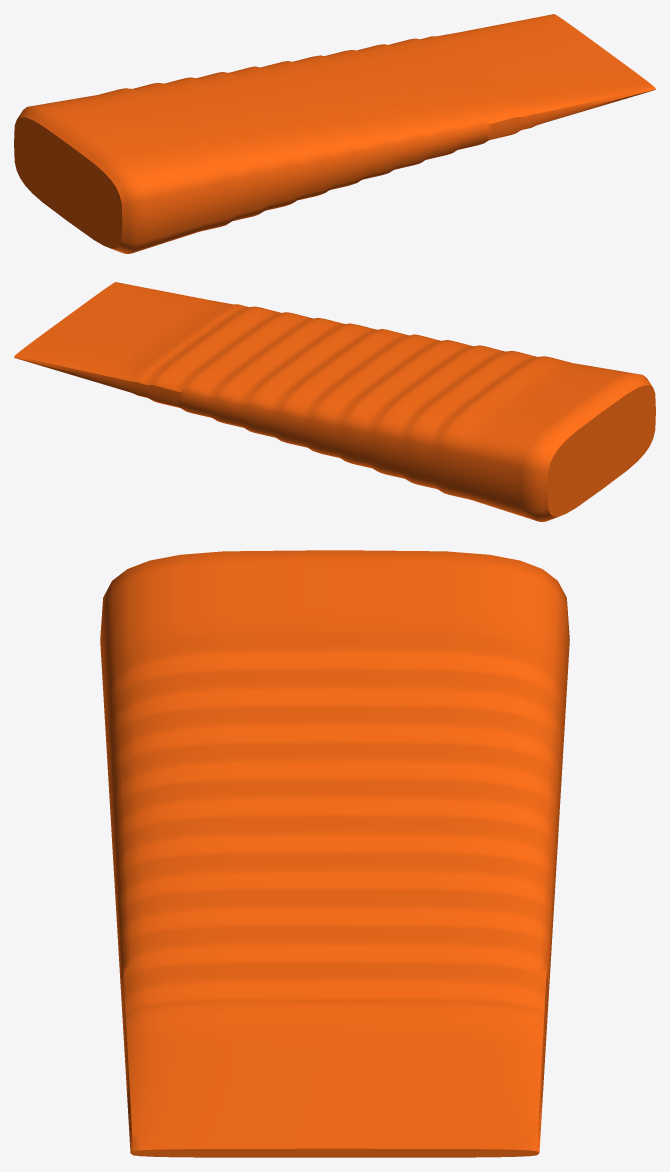
The model's file is wedge.glb.
3 renders of one model, top to bottom at view 1: azimuth 30°, elevation 25°; view 2: azimuth 150°, elevation 25°; view 3: azimuth 270°, elevation 25°, orthographic. The views are drawn at different scales.
Visible parts, largest first — view 1: WedgeBody; view 2: WedgeBody; view 3: WedgeBody.
Boxes of the visible parts, left/top/right/bottom form: WedgeBody: left=14, top=14, right=655, bottom=253; WedgeBody: left=14, top=282, right=655, bottom=521; WedgeBody: left=100, top=550, right=569, bottom=1157.
Size of the model in its own units: 0.2 by 0.032 by 0.0758.
